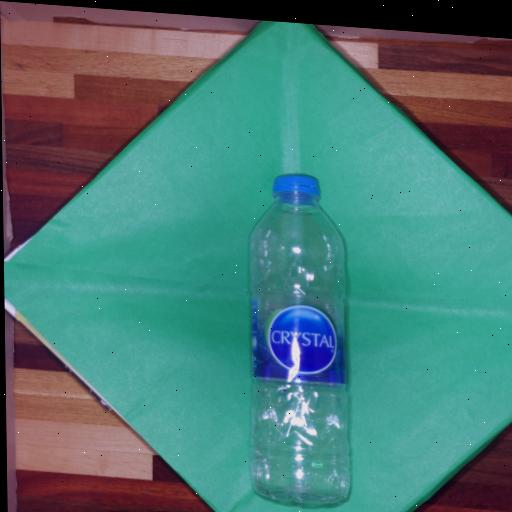bottle: (251, 175, 349, 502)
